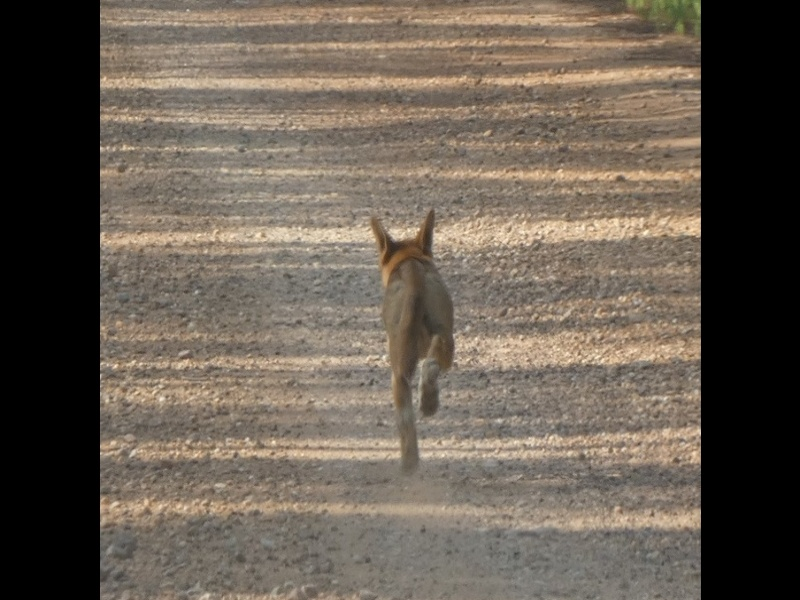dog: (364, 206, 461, 480)
